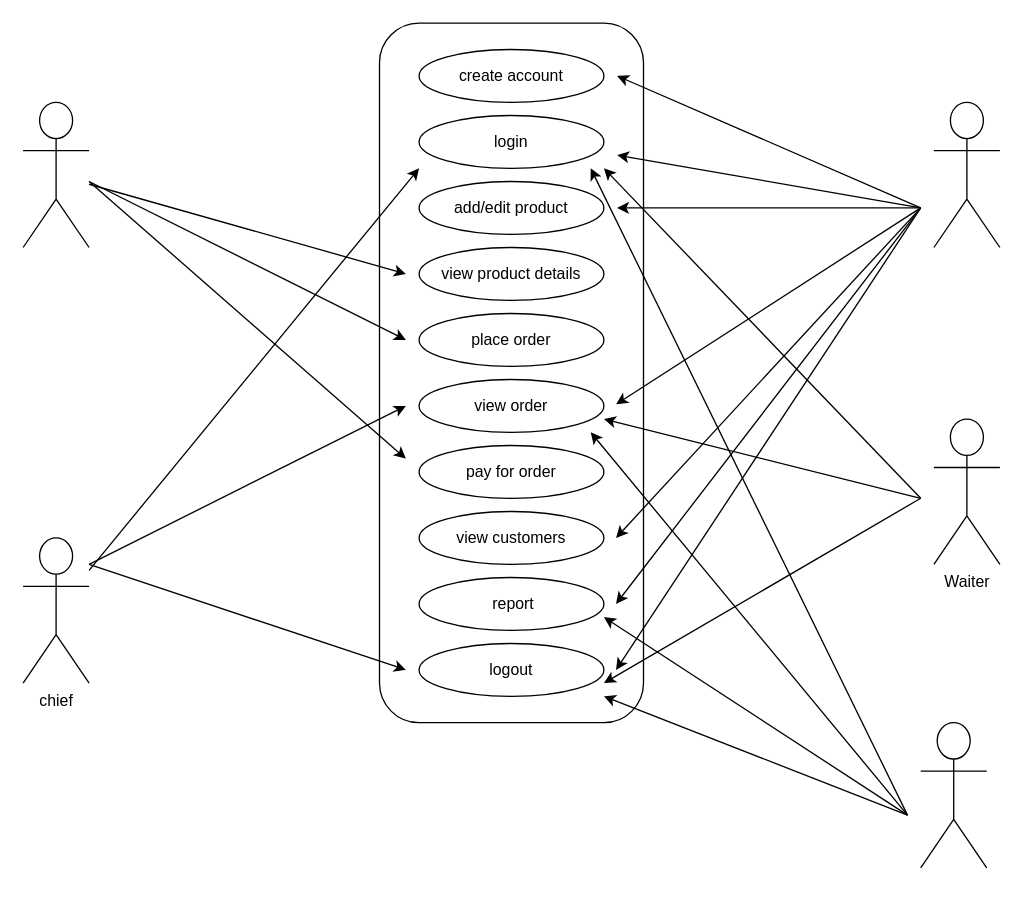
Image size: 1023x919. Some labels were removed from this diagram. Each missing label, with the centre of its shape:
admin: pixel 966 174
customer: pixel 55 174
Manager: pixel 953 794
